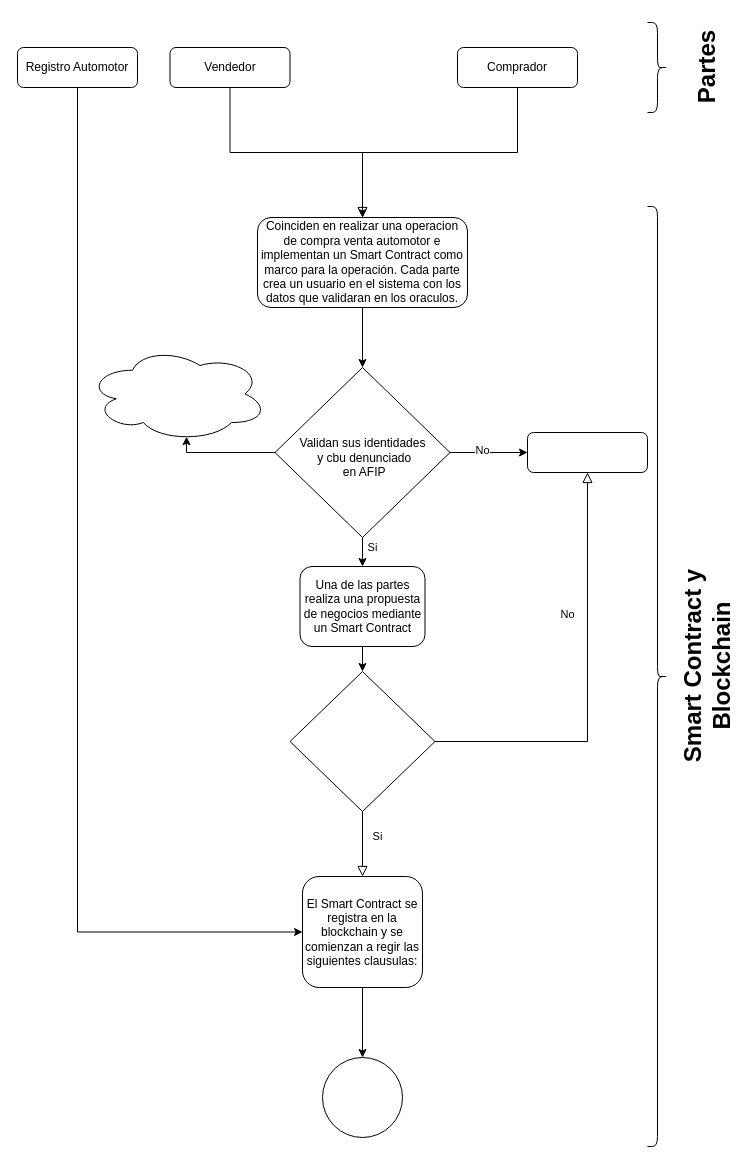
Some shapes in this 754 by 1164 pixel diagram are drawn without their labels. Here are the shapes that lost their labels. From the top down, the centre of each, then its label:
(x=177, y=394): Oráculo AFIP Datos Biometricos CBU Informado
(x=587, y=452): No se realiza la operación
(x=362, y=741): La Contraparte acepta mediante una tranferencia al CBU denunciado
(x=362, y=1097): A Clausulas
